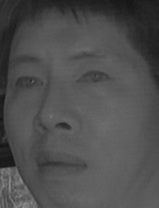eye: (75, 65, 111, 88), (11, 73, 44, 93)
mouth: (30, 148, 90, 180)
